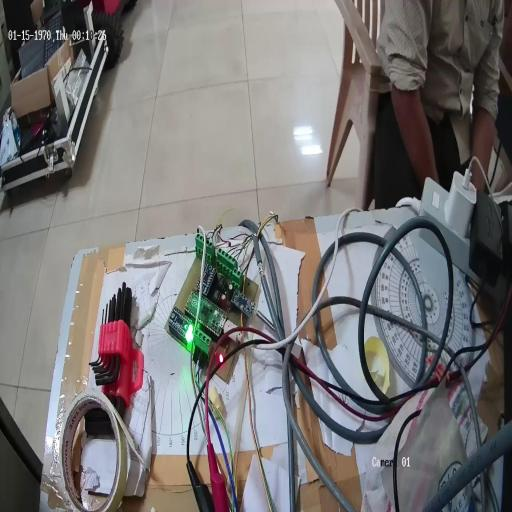laser: (184, 320, 195, 348)
